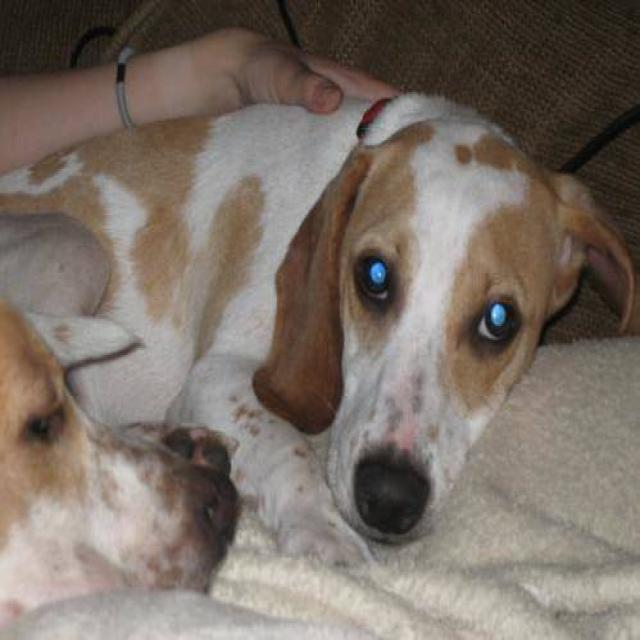dog: (0, 85, 637, 576)
